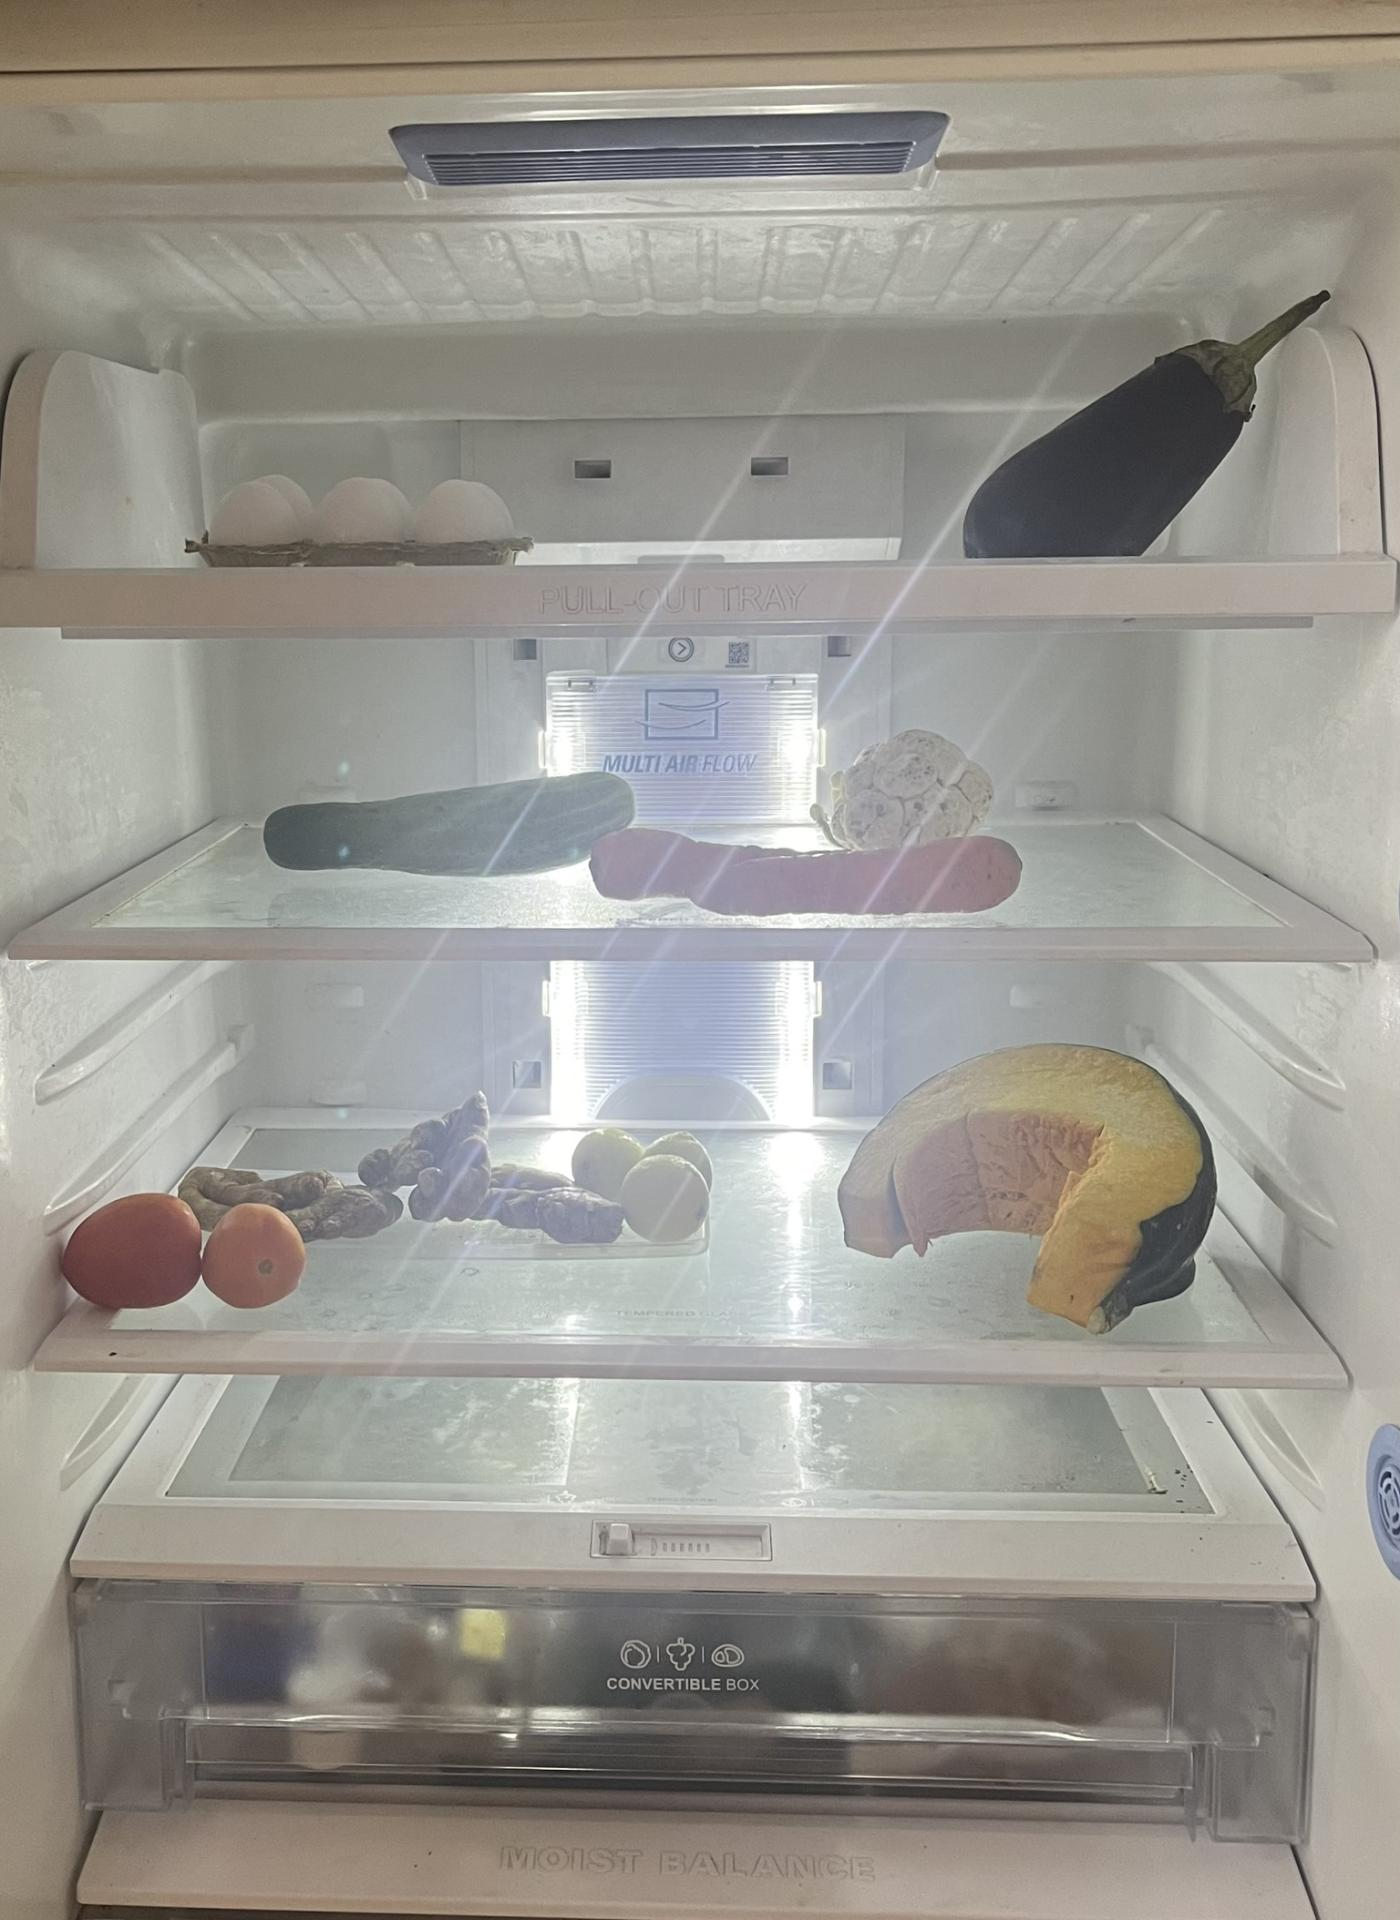brinjal: (951, 271, 1321, 563)
carrots: (590, 826, 1029, 921)
cauliflower: (824, 723, 1005, 856)
cucumber: (258, 766, 641, 884)
egg: (194, 464, 519, 558)
ginger: (168, 1109, 622, 1260)
lemon: (556, 1128, 720, 1234)
pumpkin: (839, 1042, 1226, 1336)
tomato: (58, 1173, 313, 1310)
